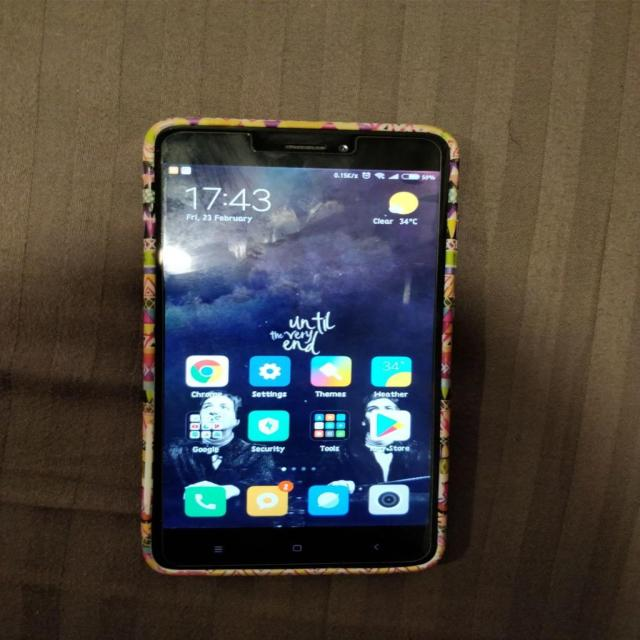Phone: (138, 115, 463, 578)
